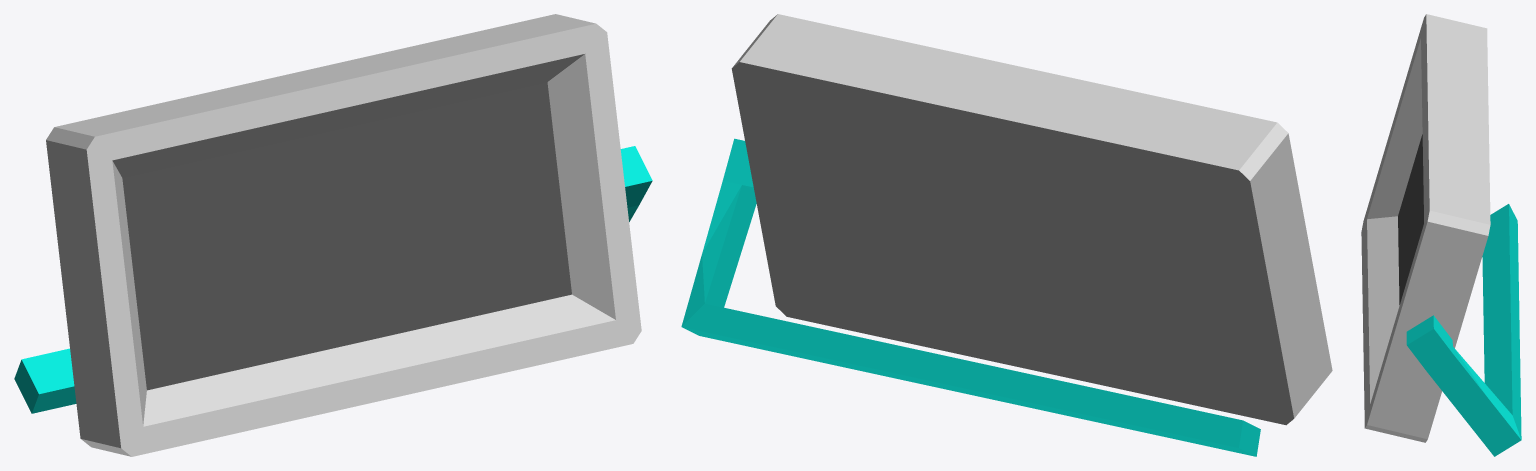
The model's file is smallScreen.fbx.
The picture shows the model from 3 angles, left to right: view 1: azimuth 30°, elevation 25°; view 2: azimuth 150°, elevation 25°; view 3: azimuth 270°, elevation 25°; orthographic projection. The views are drawn at different scales.
Visible parts, largest first — view 1: smallScreen; view 2: smallScreen; view 3: smallScreen.
Boxes of the visible parts, box(x1,y1,x2,y2) form: smallScreen: box(14, 14, 652, 456); smallScreen: box(681, 14, 1332, 456); smallScreen: box(1361, 14, 1521, 456).
Size of the model in its own units: 1.65 by 0.8893 by 0.5303.
